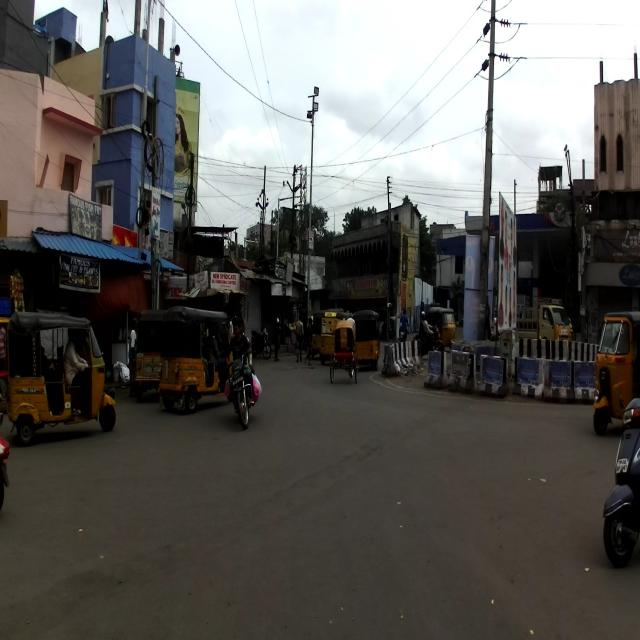autorickshaw: (5, 309, 117, 445), (158, 306, 231, 414), (592, 310, 640, 435)
motorcycle_Hero: (226, 347, 253, 428)
scooter: (601, 395, 639, 568)
